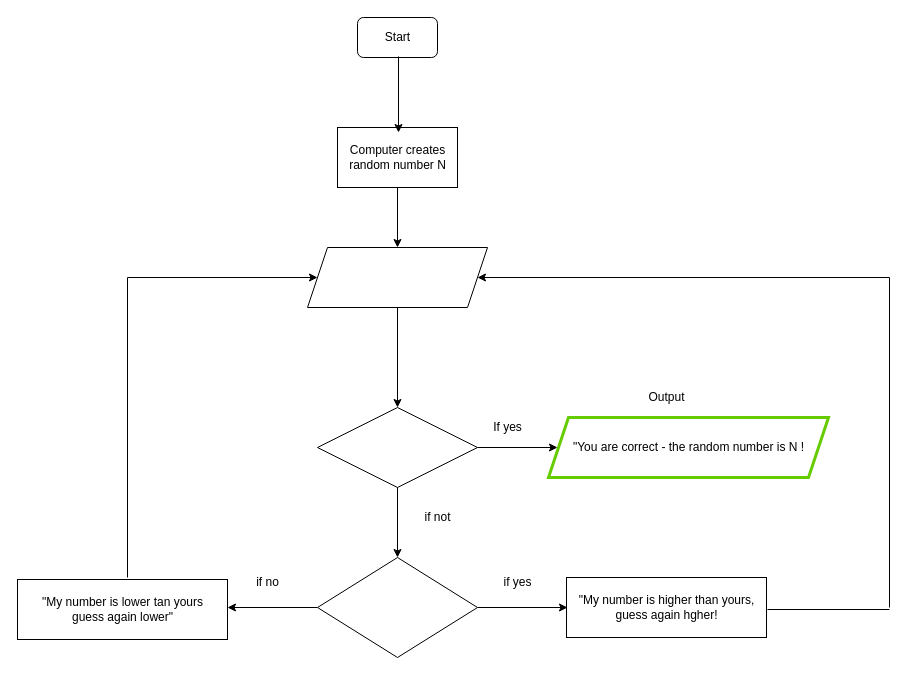
This 915x675 diagram has some shape labels left out. The centre of each missing label's shape, as x and y in pixels:
"is the Guess == N?" goes at [397,447].
"is the Guess lower than N?" goes at [397,607].
"User makes a guess" goes at [397,277].
